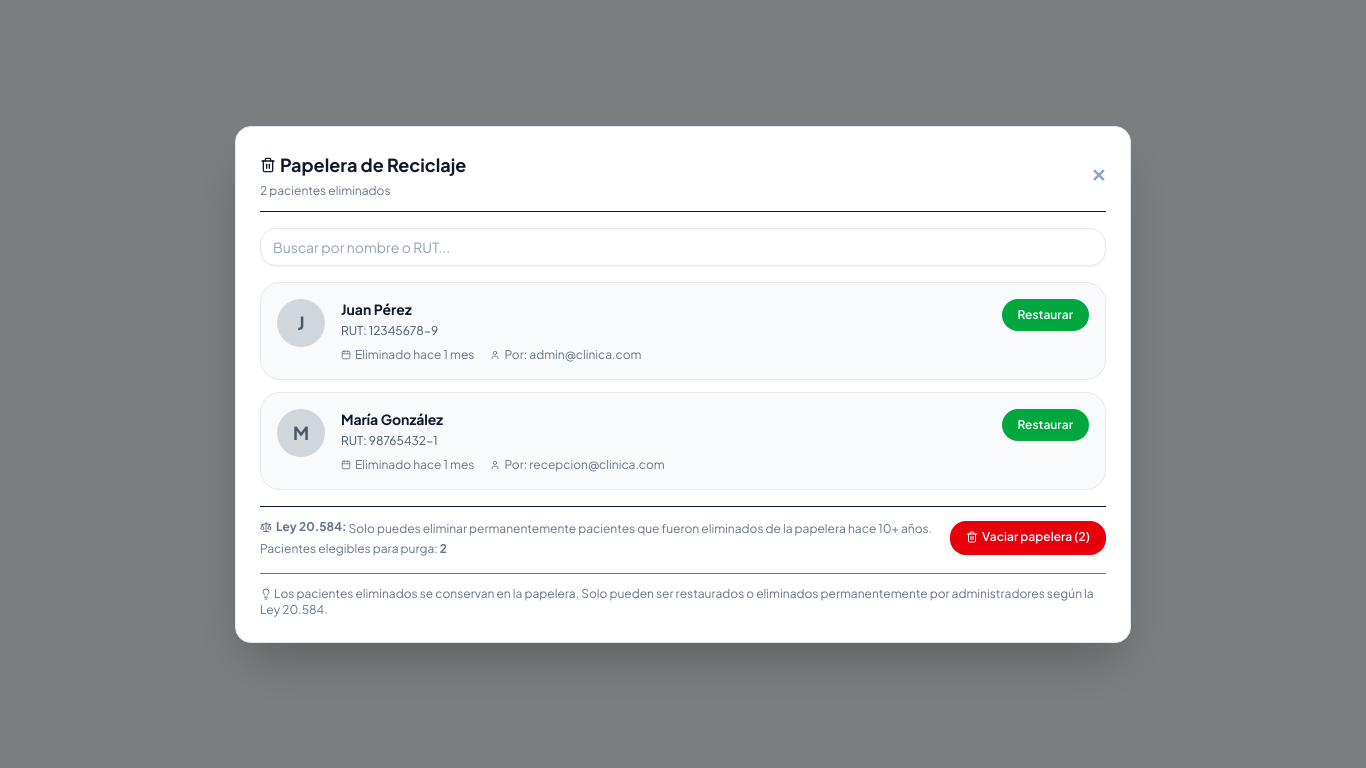
it: ModalPapelera (F6-L) › abre modal de confirmación al hacer click en Vaciar papelera
Click the button "Vaciar papelera (2)" at (1028, 538), box [950, 520, 1106, 554]
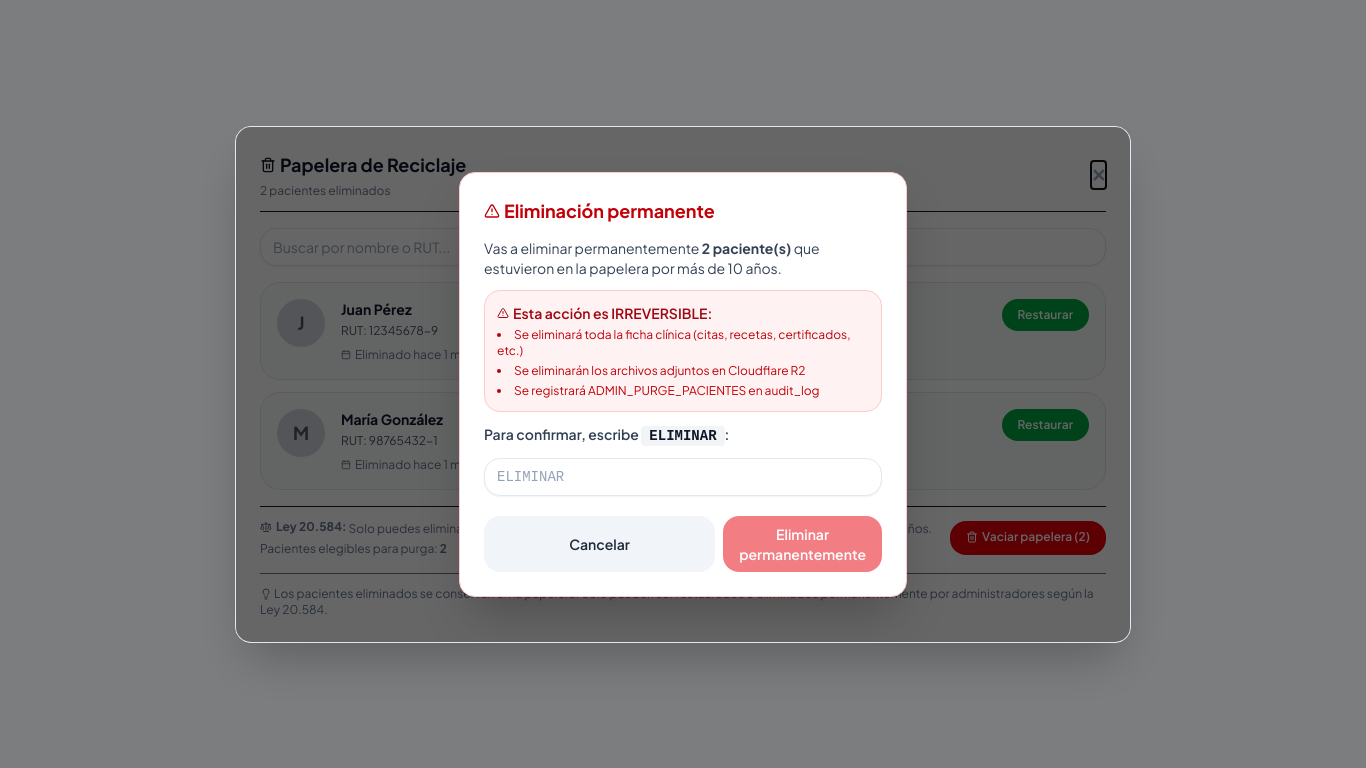
Now the text "Eliminación permanente" is shown, box [484, 196, 715, 224]
Now the text "Esta acción es IRREVERSIBLE:" is shown, box [497, 302, 712, 322]
Now the field with placeholder "ELIMINAR" is shown, box [484, 458, 882, 496]
